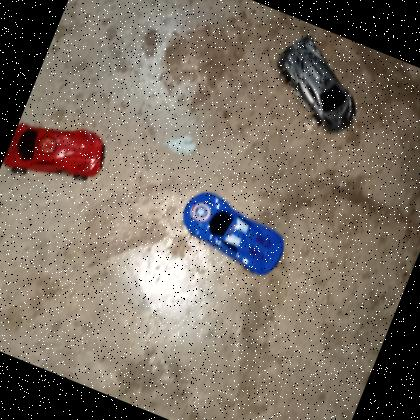Car: (258, 26, 379, 142), (170, 183, 296, 284), (2, 124, 105, 181)
